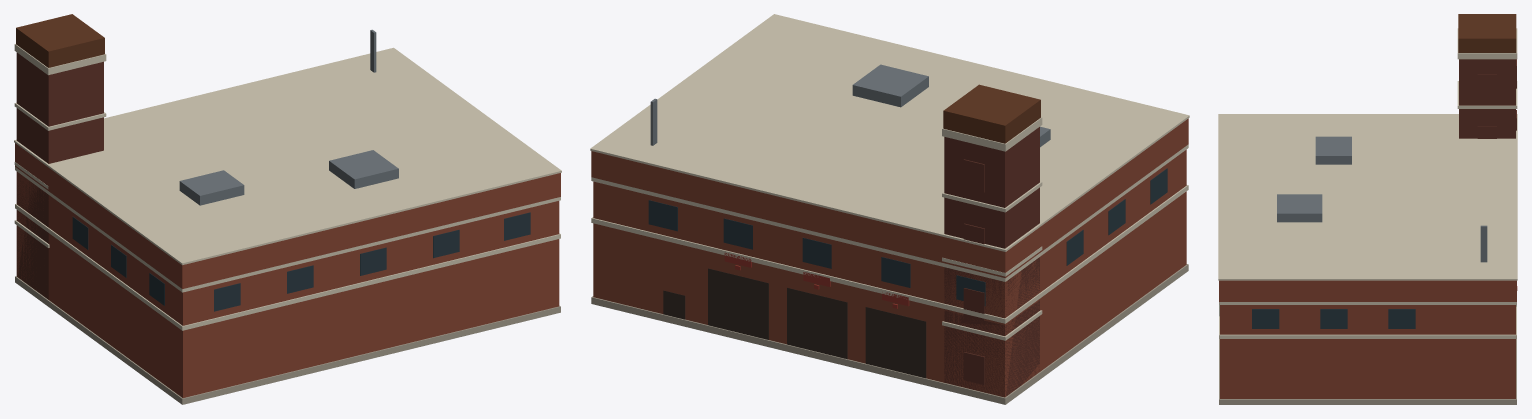
The model's file is metro_fire_station_lod1.glb.
3 renders of one model, left to right at view 1: azimuth 30°, elevation 25°; view 2: azimuth 150°, elevation 25°; view 3: azimuth 270°, elevation 25°, orthographic. The views are drawn at different scales.
Visible parts, largest first — view 1: metro_fire_station_lod1; view 2: metro_fire_station_lod1; view 3: metro_fire_station_lod1.
Part boxes in pixels (<box>): metro_fire_station_lod1: <box>14,14,561,404</box>; metro_fire_station_lod1: <box>590,14,1189,404</box>; metro_fire_station_lod1: <box>1218,14,1517,404</box>.
Bounding box in the file's own units: 34.32 × 22 × 26.32.
Materials: 3 (3 with a texture image).
